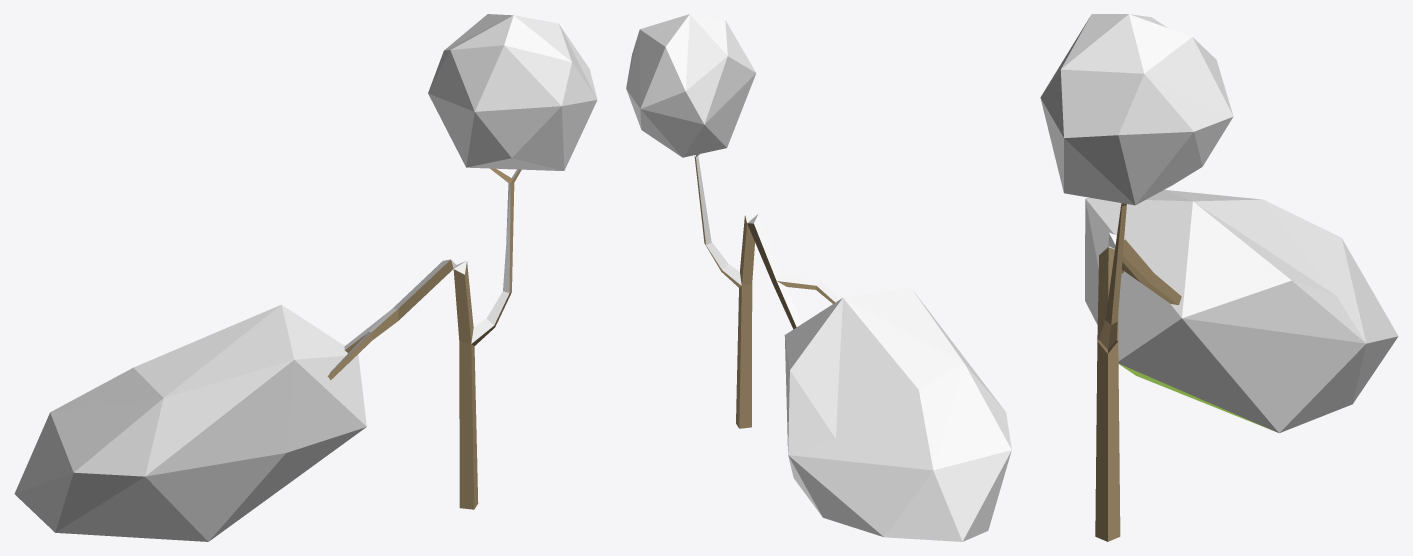
The model's file is Random_Tree_crk_s_Snow_01_LOD.fbx.
3 views of the same model, side by side, from view 1: azimuth 30°, elevation 25°; view 2: azimuth 150°, elevation 25°; view 3: azimuth 270°, elevation 25° (orthographic). The views are drawn at different scales.
Parts seen in each view (by area): view 1: Random_Tree_crk_s_Snow_01_LOD0; view 2: Random_Tree_crk_s_Snow_01_LOD0; view 3: Random_Tree_crk_s_Snow_01_LOD0.
Part boxes in pixels (box(x1,y1,x2,y2)): Random_Tree_crk_s_Snow_01_LOD0: box(14, 14, 597, 541); Random_Tree_crk_s_Snow_01_LOD0: box(626, 14, 1011, 541); Random_Tree_crk_s_Snow_01_LOD0: box(1040, 14, 1398, 541).
Size of what is drawn, in the model's own units: 291 by 273 by 160.
